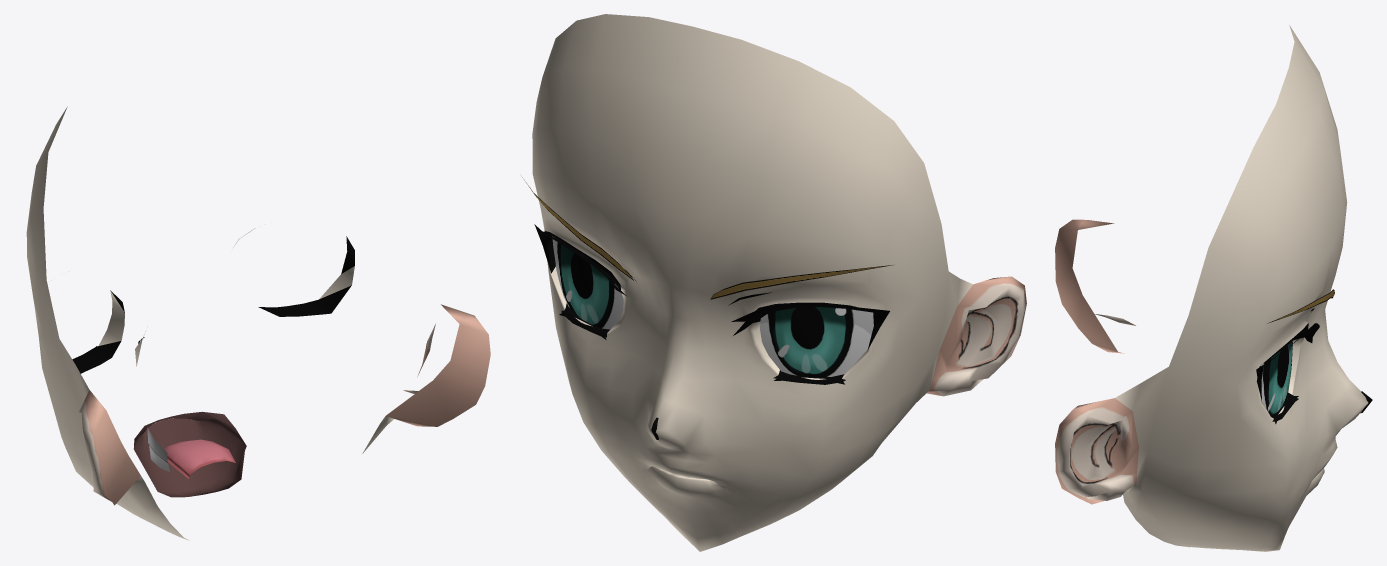
3 views of the same model, side by side, from view 1: azimuth 30°, elevation 25°; view 2: azimuth 150°, elevation 25°; view 3: azimuth 270°, elevation 25° (orthographic). The views are drawn at different scales.
Visible parts, largest first — view 1: F010_Saber_Face; view 2: F010_Saber_Face; view 3: F010_Saber_Face.
Part boxes in pixels (box(x1,y1,x2,y2)): F010_Saber_Face: box(26, 106, 490, 540); F010_Saber_Face: box(522, 14, 1026, 551); F010_Saber_Face: box(1055, 25, 1372, 551).
Bounding box in the file's own units: 0.1517 × 0.1796 × 0.1014.
